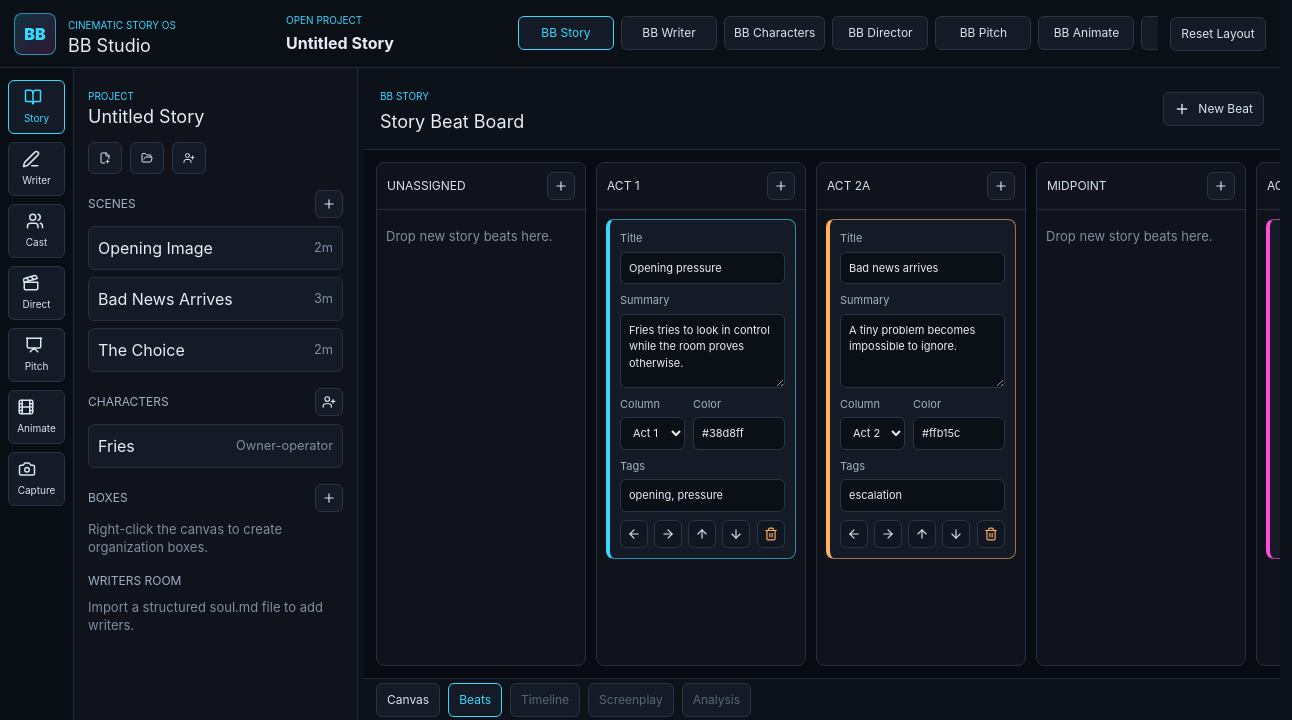
Test: App › renders Photoshop-style resize handles for the docked workspace
Click the button "Canvas" at (408,700), box [376, 682, 440, 716]
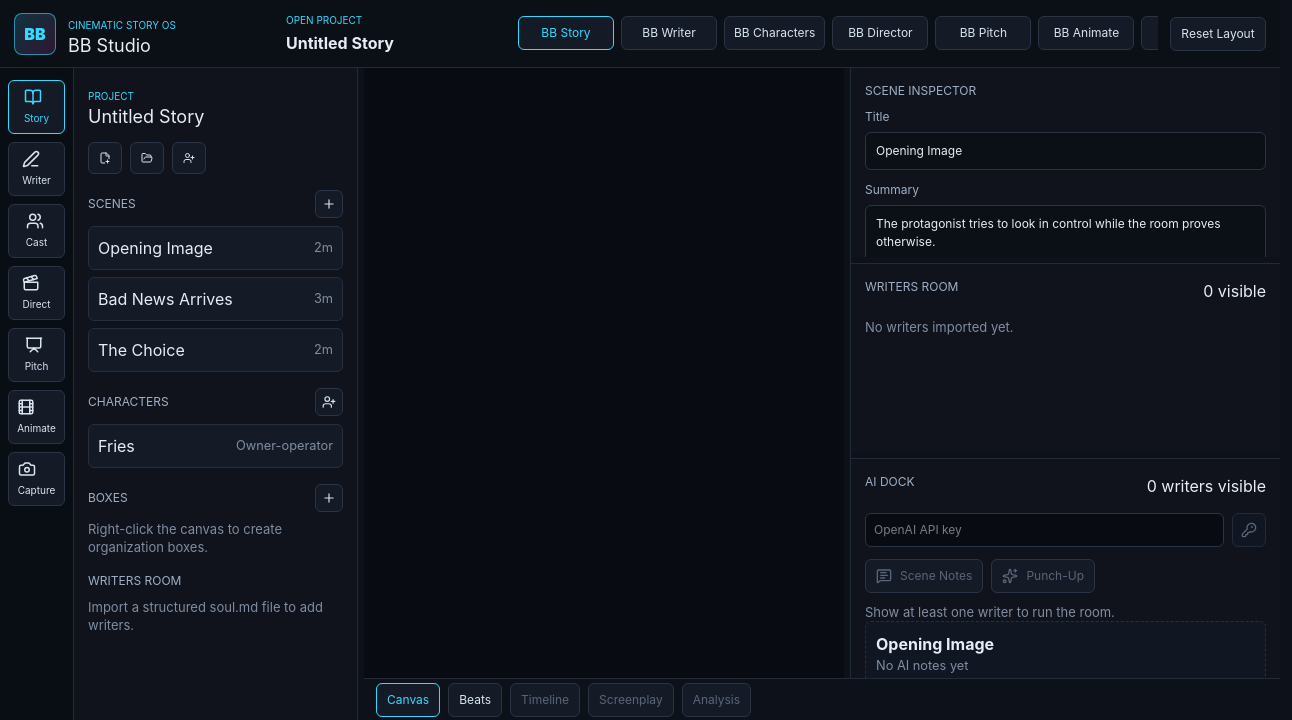
Check: the element named "Resize right dock" is shown, box [844, 68, 850, 678]
Check: the element named "Resize inspector panel" is shown, box [851, 257, 1280, 263]
Check: the element named "Resize writers room panel" is shown, box [851, 452, 1280, 458]
